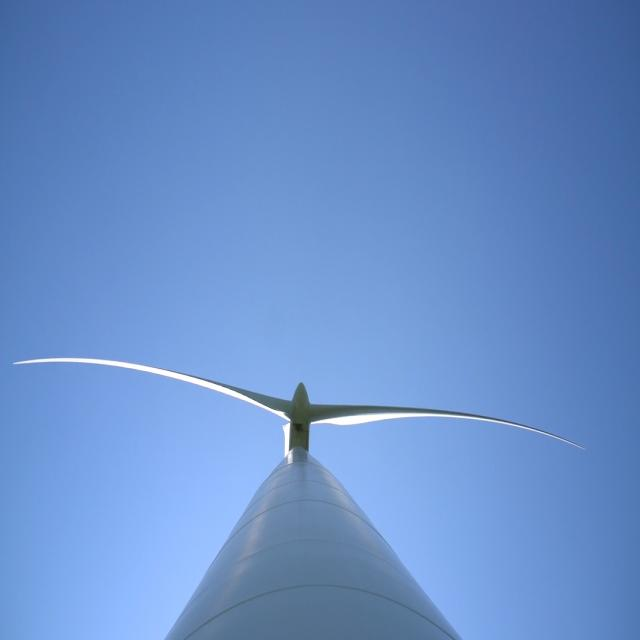blade 1: (38, 348, 248, 412)
blade 2: (331, 382, 536, 452)
blade 3: (266, 423, 290, 461)
